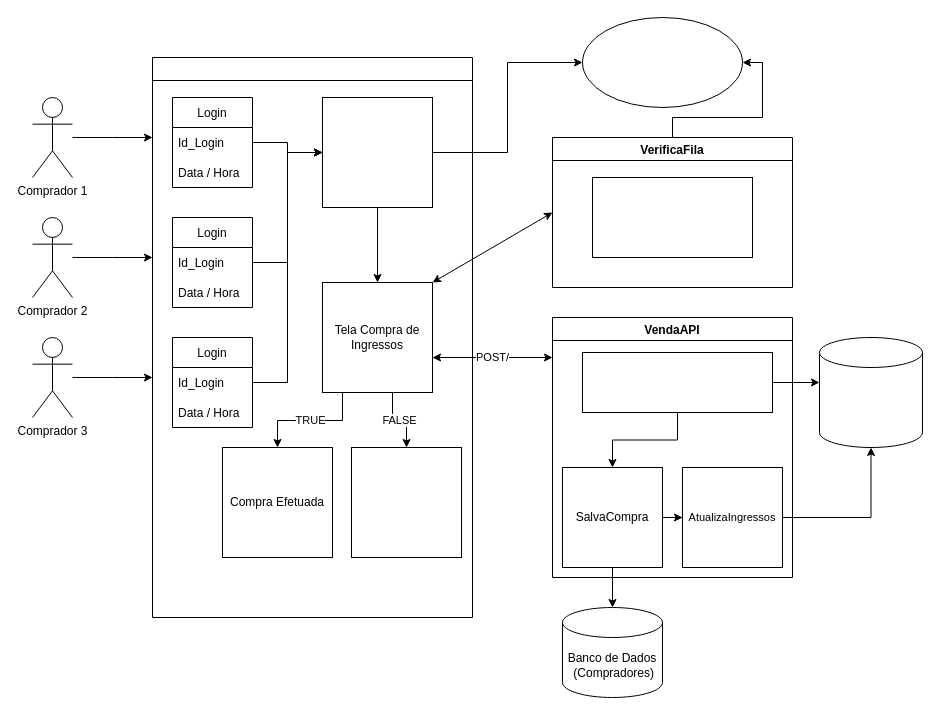
Some shapes in this 940 by 715 pixel diagram are drawn without their labels. The shapes that lost their labels are listed below. From the top down, each one's box as (x1, y1, x2, y2) in pixels, then its label:
(582, 16, 742, 108): filaEspera ServiceBus
(322, 96, 432, 208): Tela de Espera
(592, 176, 752, 258): Lógica
(152, 56, 472, 618): Site de Venda de Ingressos
(582, 352, 772, 412): VerificaIngressosDisponiveis
(818, 336, 922, 448): Banco de Dados (Ingressos)
(350, 446, 462, 558): Tela Ingressos Esgotados
